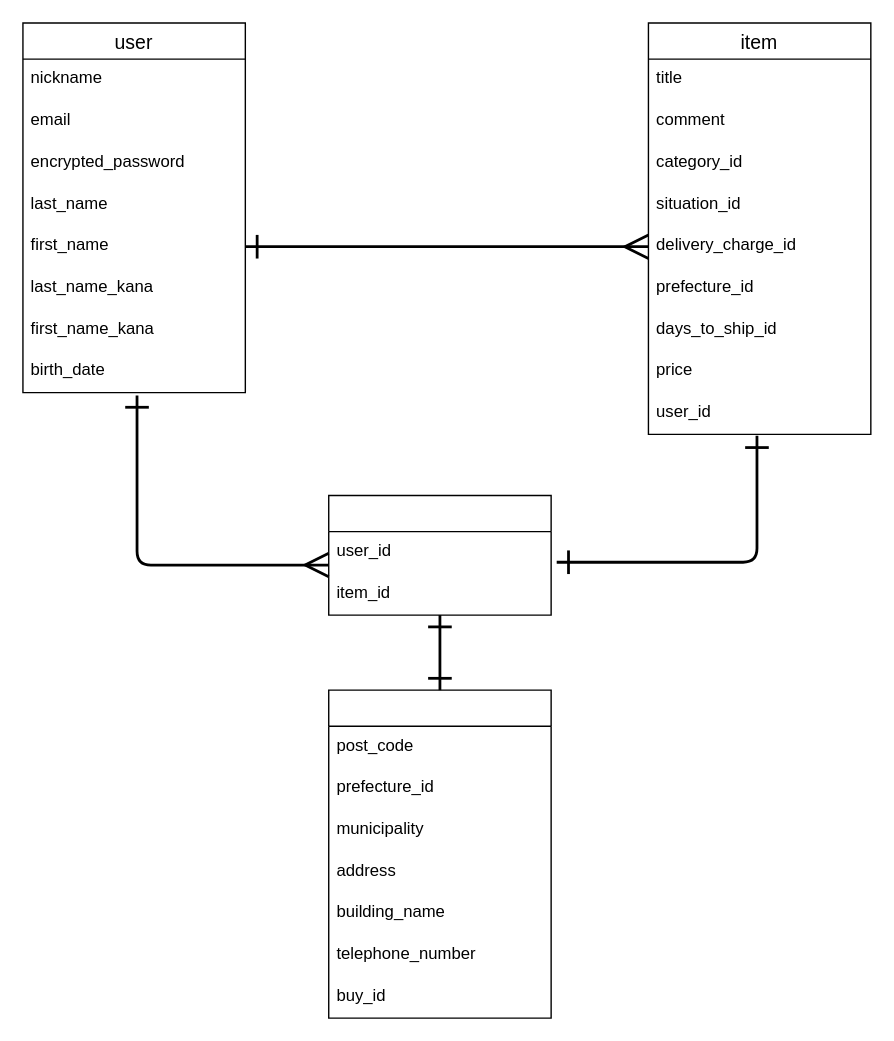
Image size: 894x1041. Some labels were removed from this diagram. Each missing label, with the box of its shape:
buys: (327, 494, 551, 615)
ship: (327, 689, 551, 1018)
